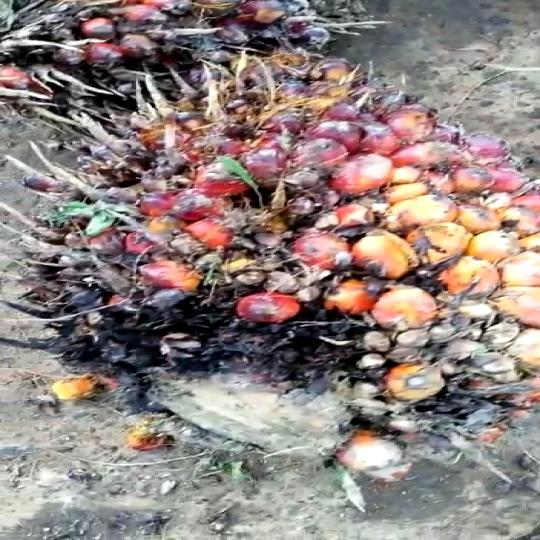masak: (9, 46, 540, 498)
